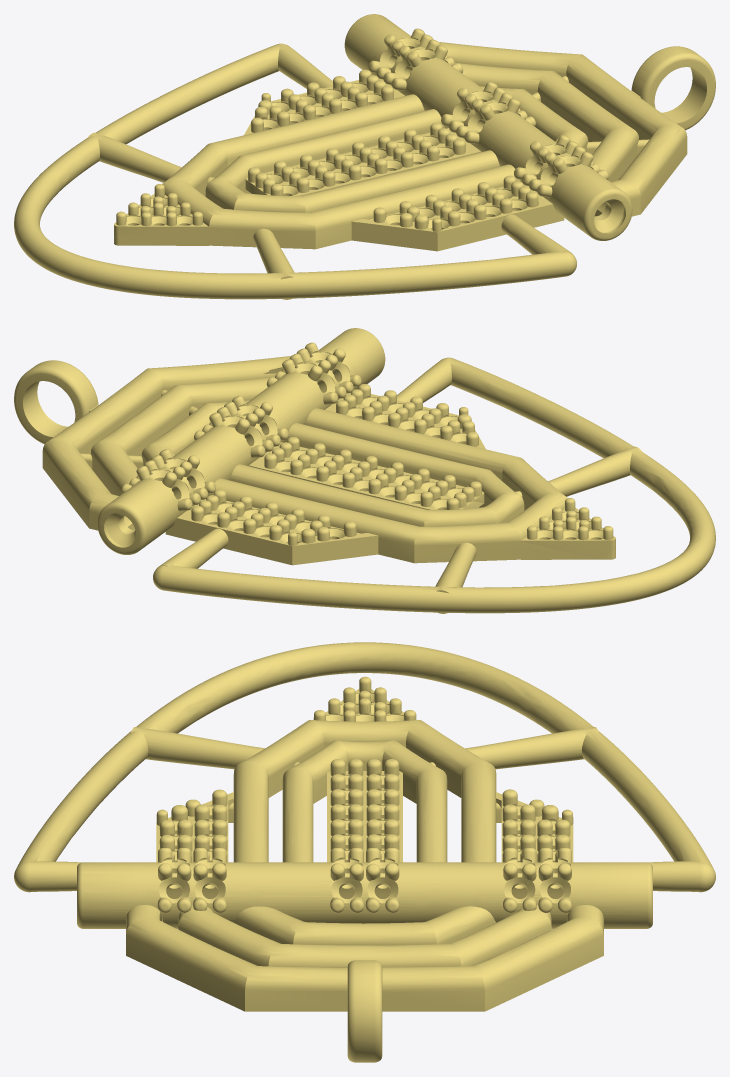
File: kolyeler2-45_2_6cm.glb
3 renders of one model, top to bottom at view 1: azimuth 30°, elevation 25°; view 2: azimuth 150°, elevation 25°; view 3: azimuth 270°, elevation 25°, orthographic. The views are drawn at different scales.
Parts seen in each view (by area): view 1: Renderer Node; view 2: Renderer Node; view 3: Renderer Node.
Boxes of the visible parts, x1,y1,x2,y2 form: Renderer Node: (14,14,715,299); Renderer Node: (14,328,715,613); Renderer Node: (14,642,715,1062).
Bounding box in the file's own units: 33.89 × 3.83 × 25.61.
